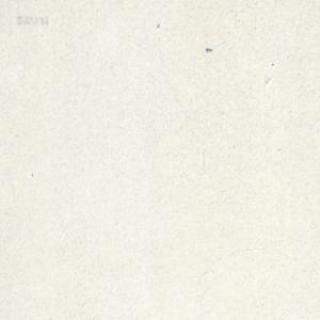Nailtrack_idkeyframe: (205, 45, 212, 50)
